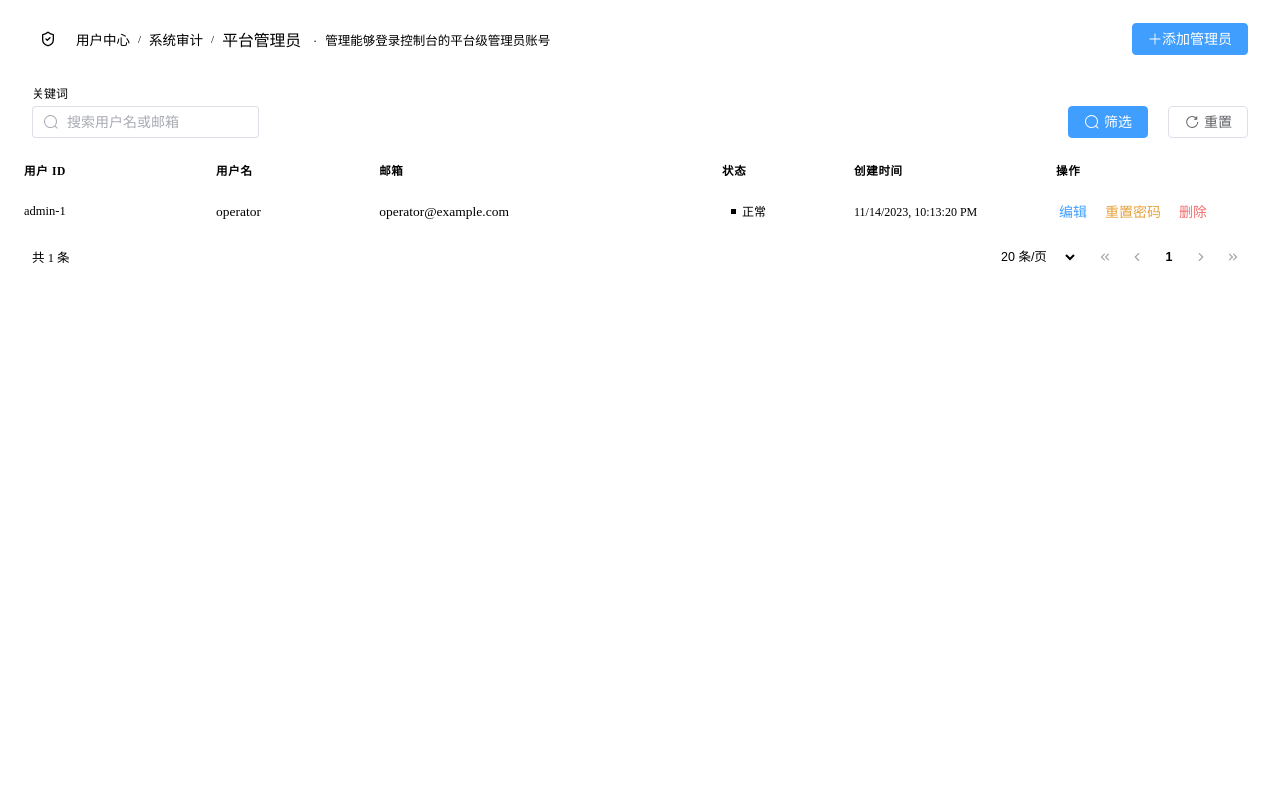
Scenario: AdminUsersWorkspace › opens the create-admin workflow from the workspace action
Click the button "添加管理员": (1190, 39) x1=1132 y1=23 x2=1248 y2=55
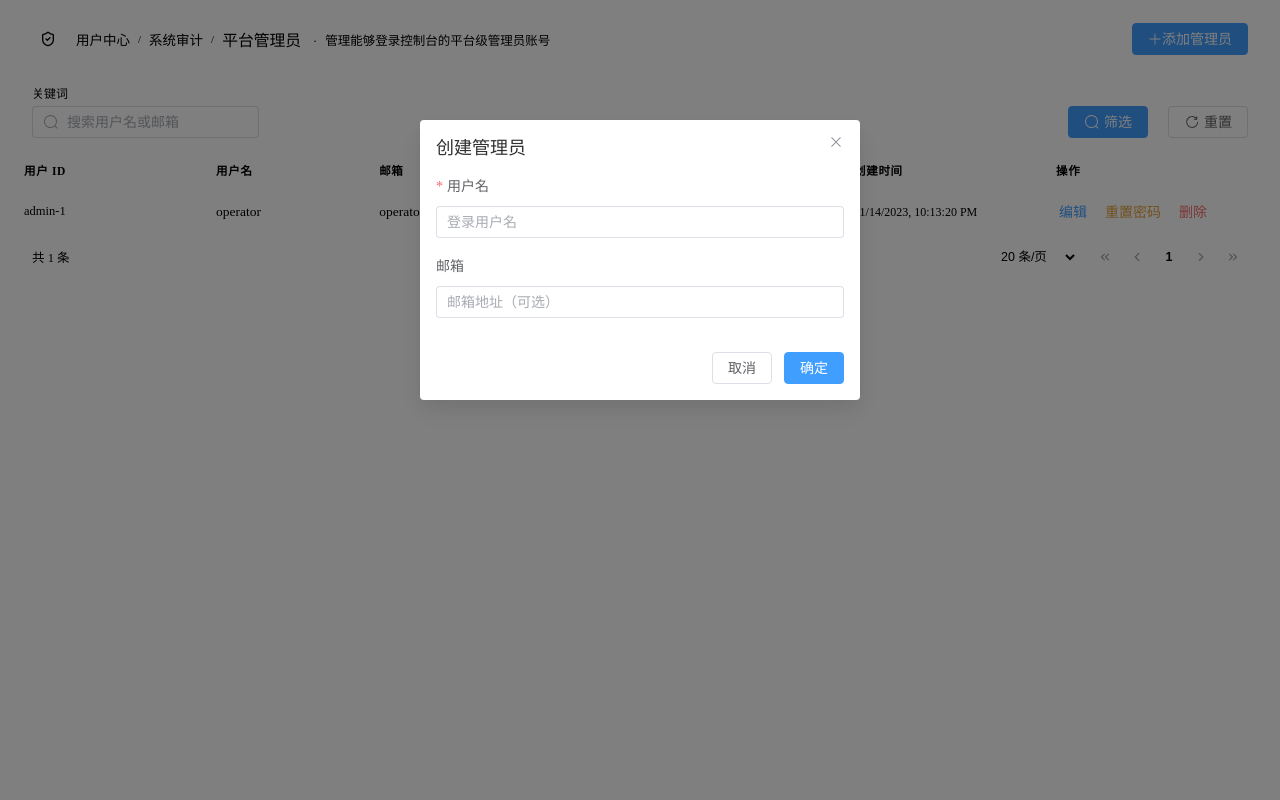
expect the text "创建管理员" is shown: met, box x1=436 y1=138 x2=526 y2=158
